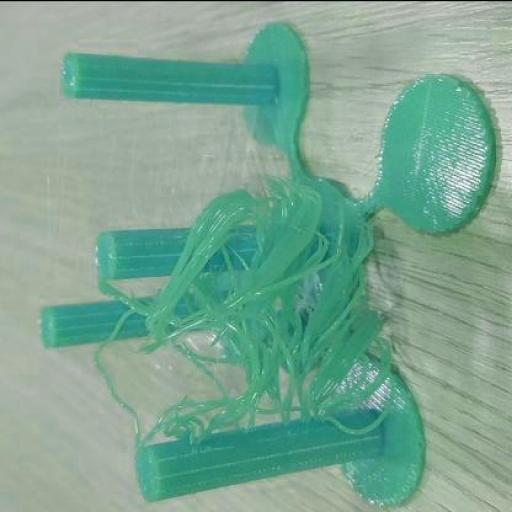spaghetti: (93, 174, 394, 449)
